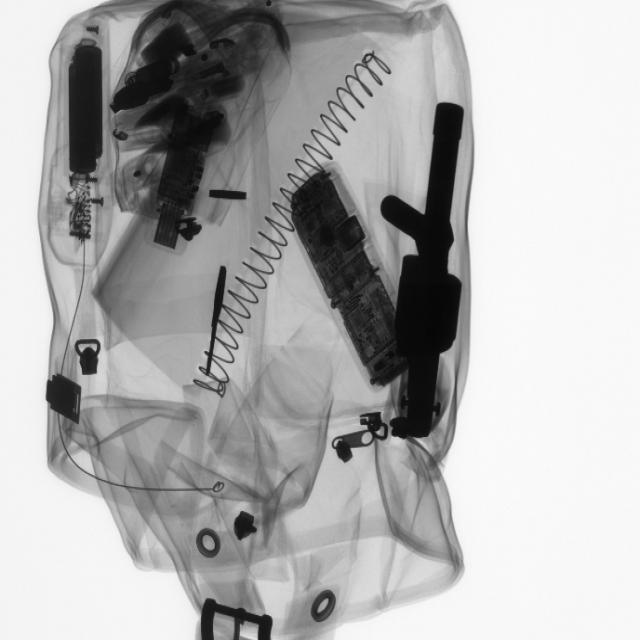GUN: (387, 95, 478, 448)
